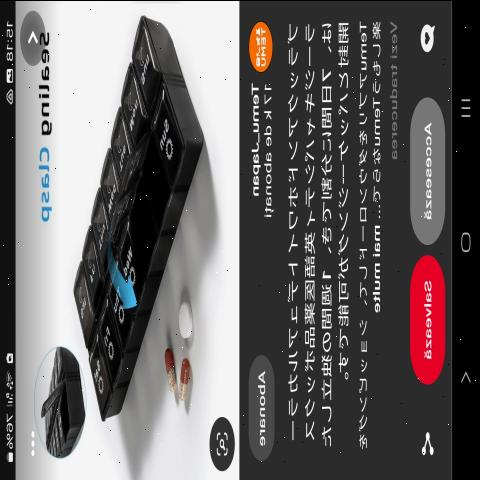PillBox: (63, 9, 205, 429)
